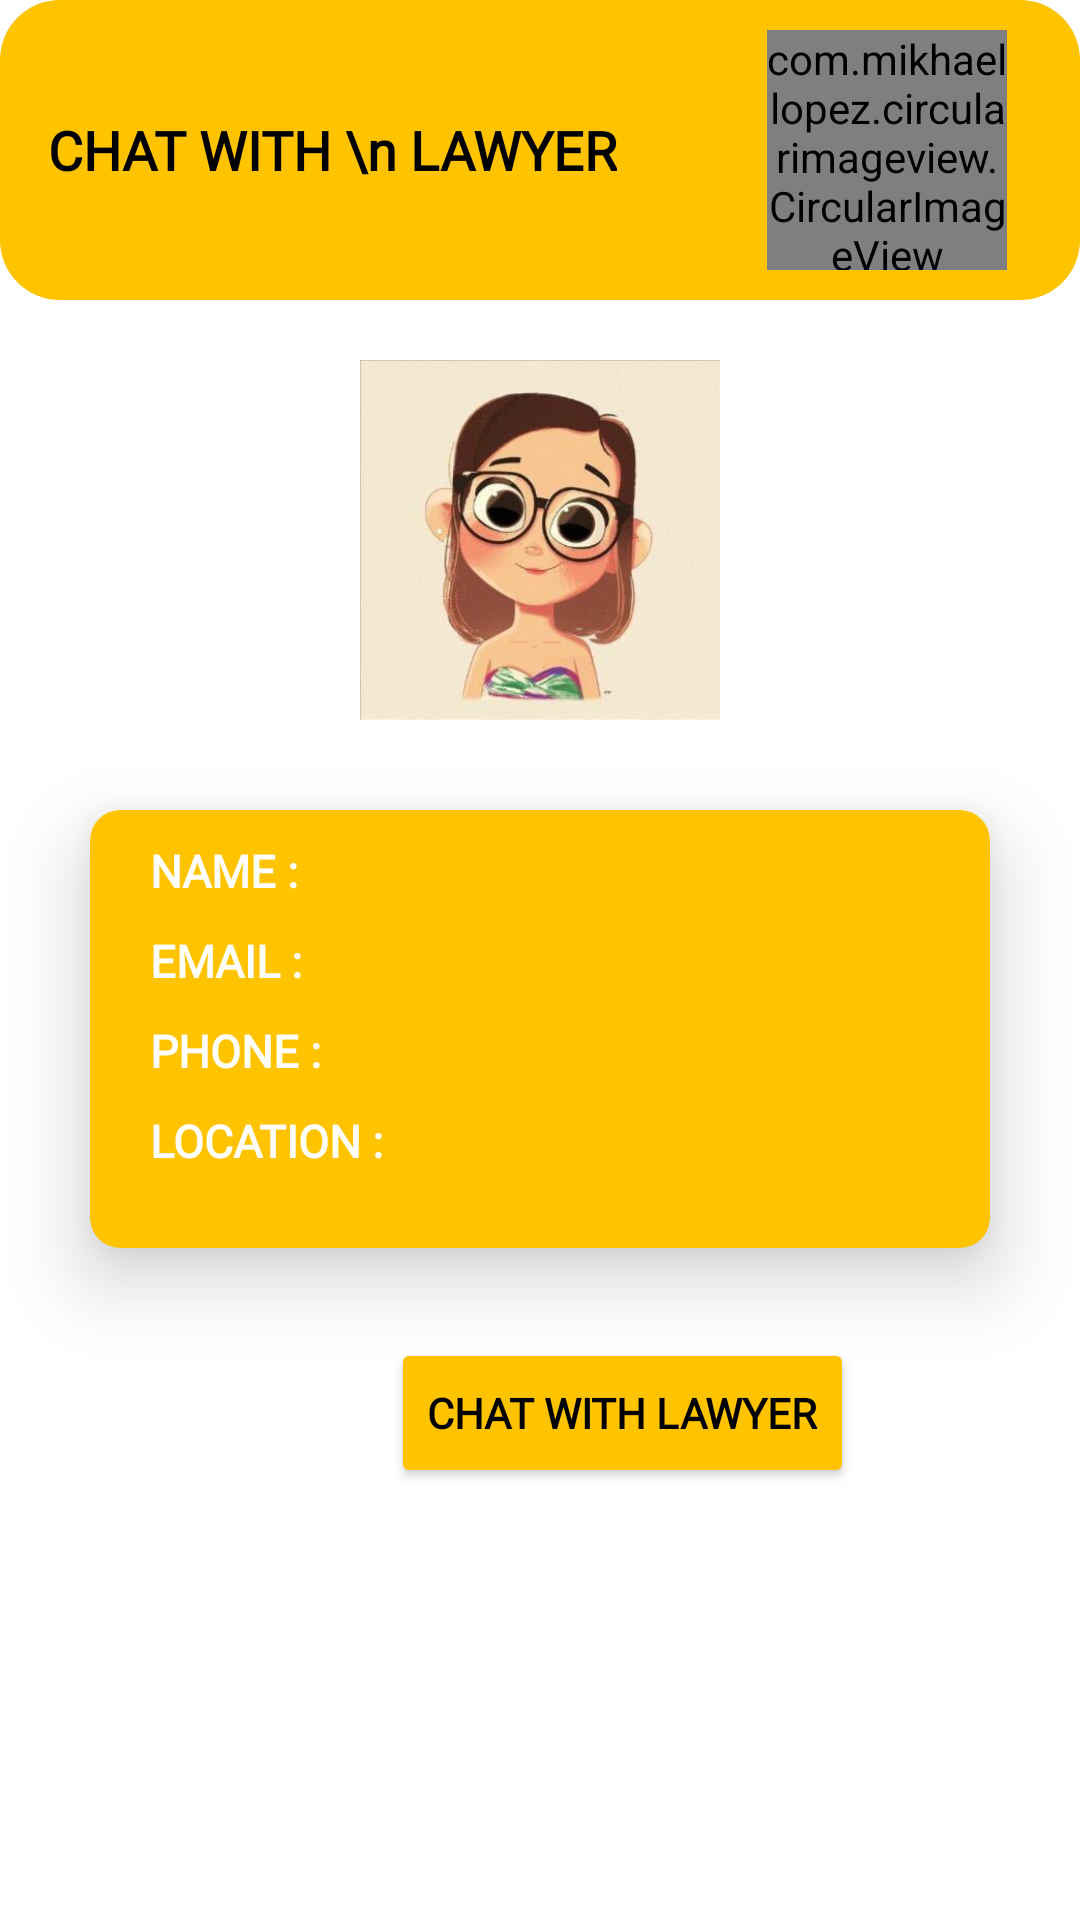

Named icons in this screenshot (1080×1920) and their centers, [x,y]:
user: [540,540]
